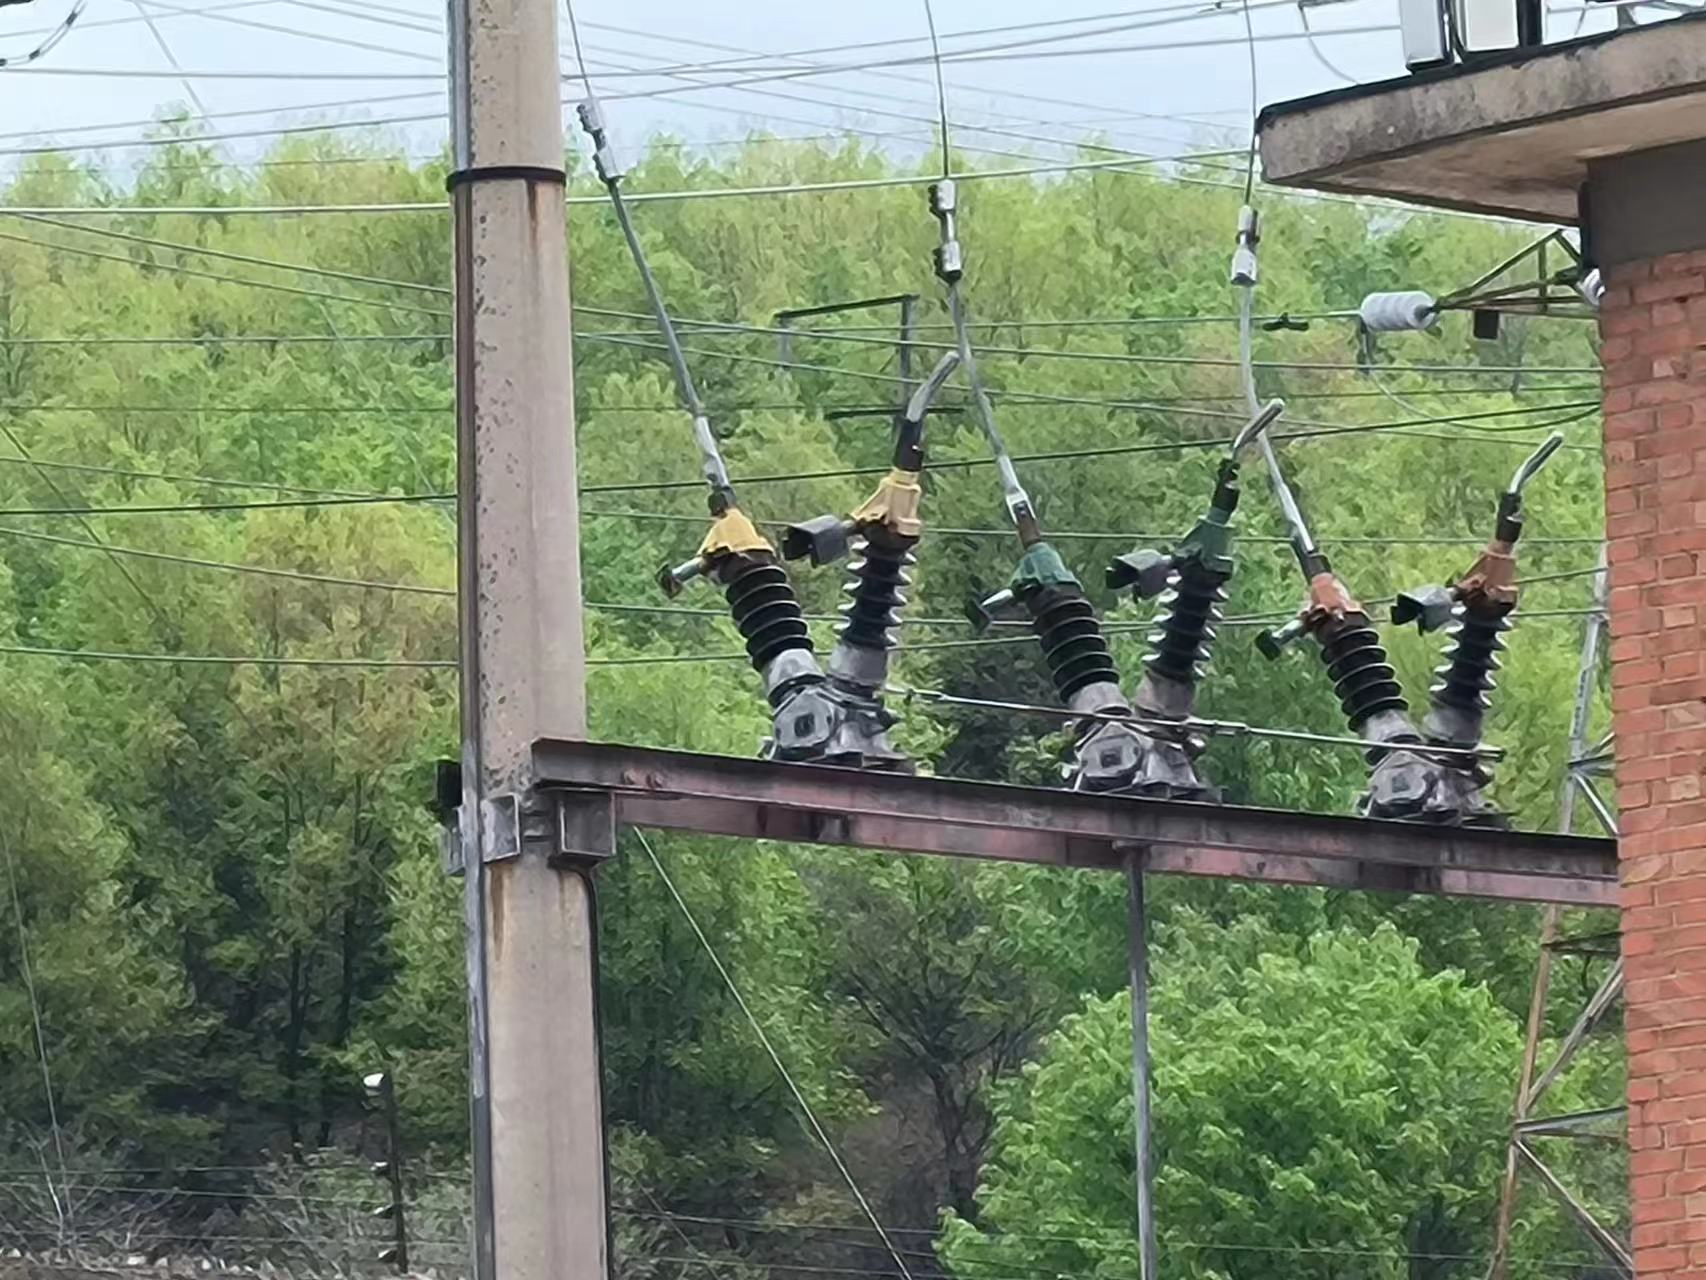Isolating switch: (1256, 511, 1543, 838), (973, 483, 1253, 813), (667, 475, 936, 761)
